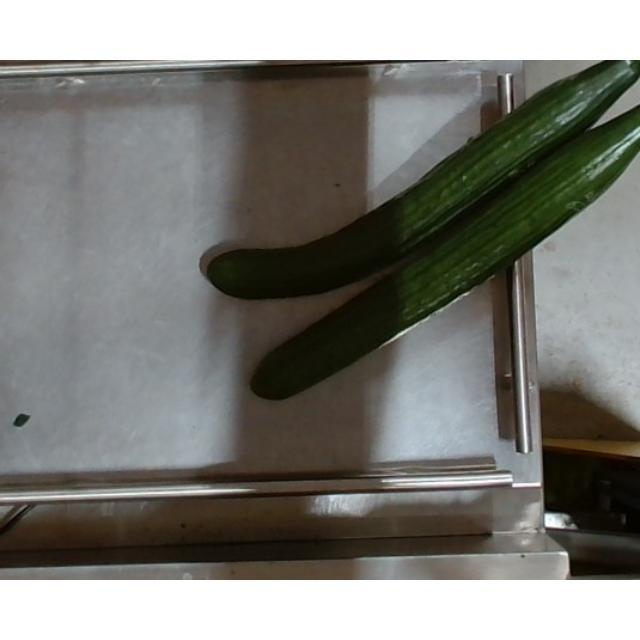cucumber: (252, 104, 640, 400), (208, 60, 640, 300)
